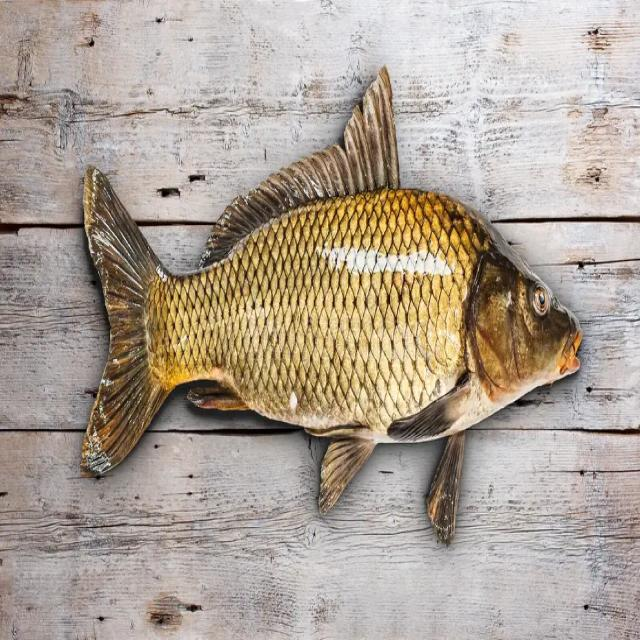Common carp: (83, 65, 582, 516)
